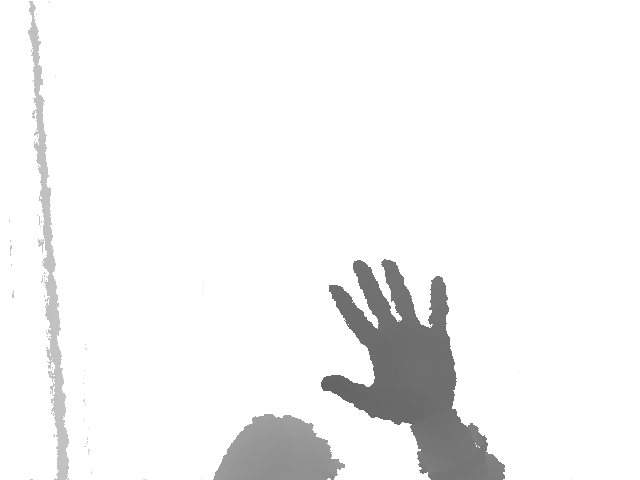hand: (321, 258, 464, 446)
head: (214, 414, 347, 480)
person: (215, 259, 504, 480)
